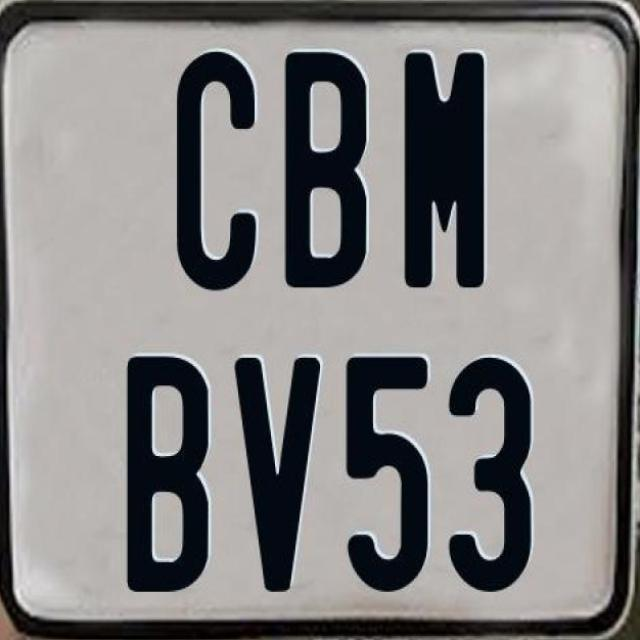license-plate: (28, 52, 637, 640)
